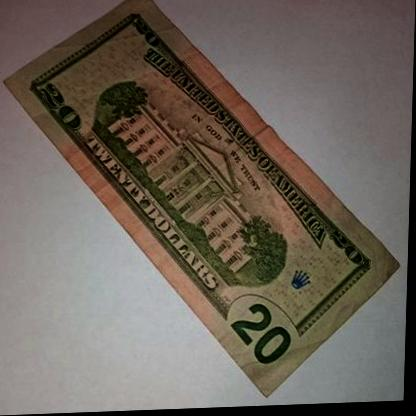twenty-back: (6, 0, 408, 401)
